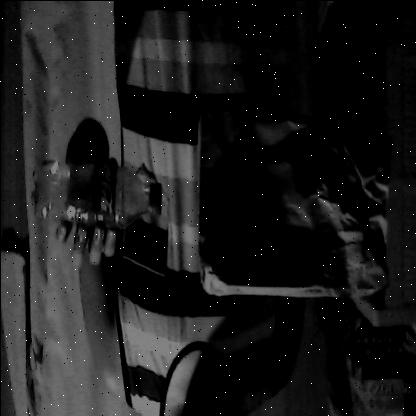Plastic Bottle: (24, 135, 165, 243)
